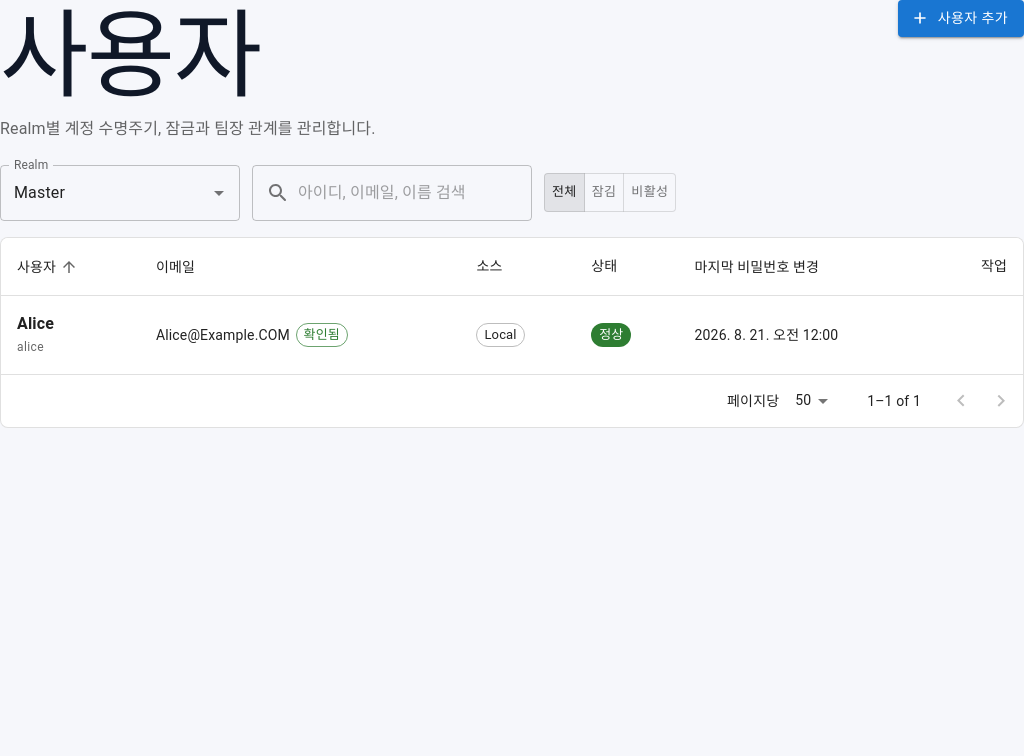
Scenario: a reset that could not end the sessions says so instead of claiming it did
This screenshot has width=1024, height=756.
Click the text "Alice" at (36, 324), box [17,314,54,333]
(page scrolled)
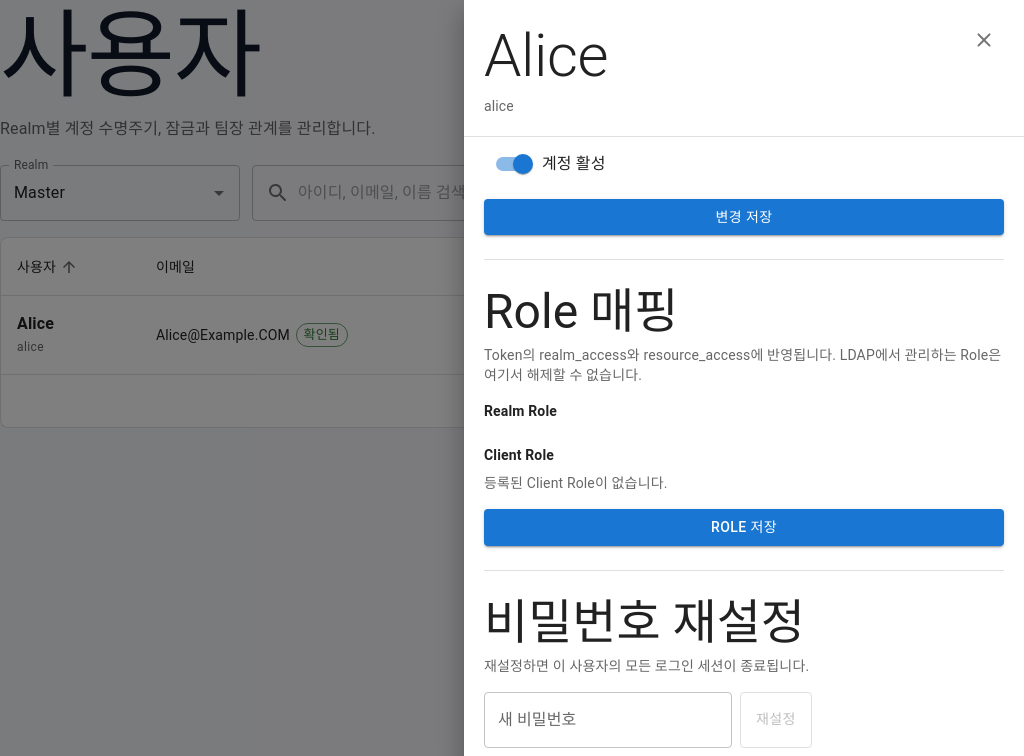
Type "a-new-password-1234" into the password field labelled "새 비밀번호" at (608, 720), box [484,692,732,748]
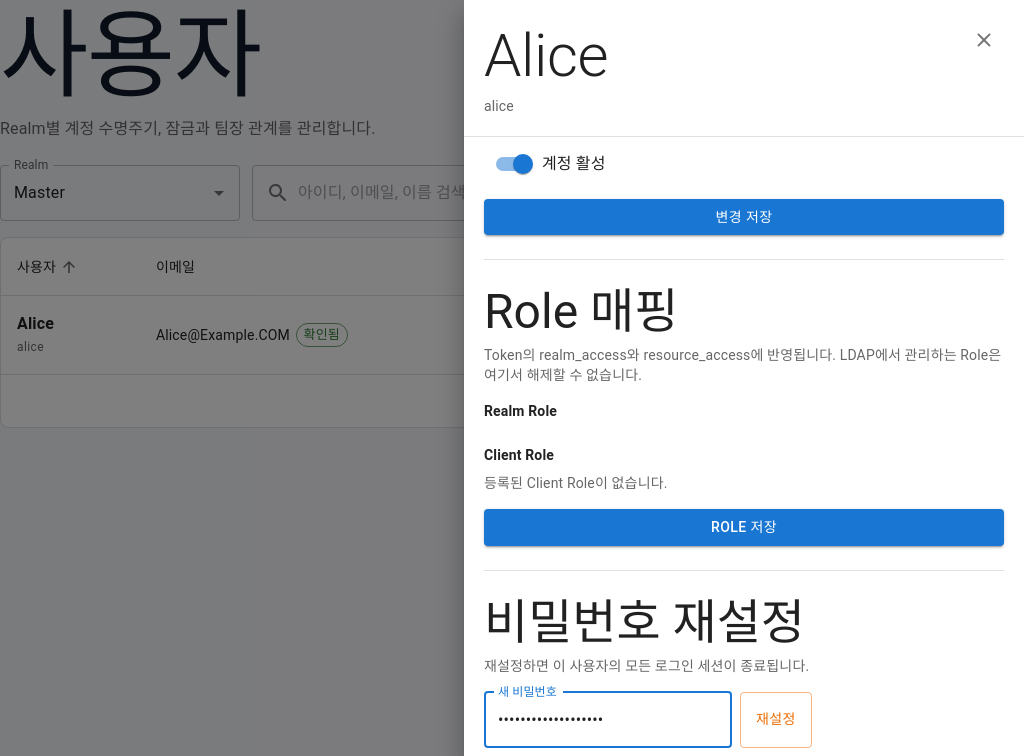
Click the button "재설정" at (776, 720), box [740,692,812,748]
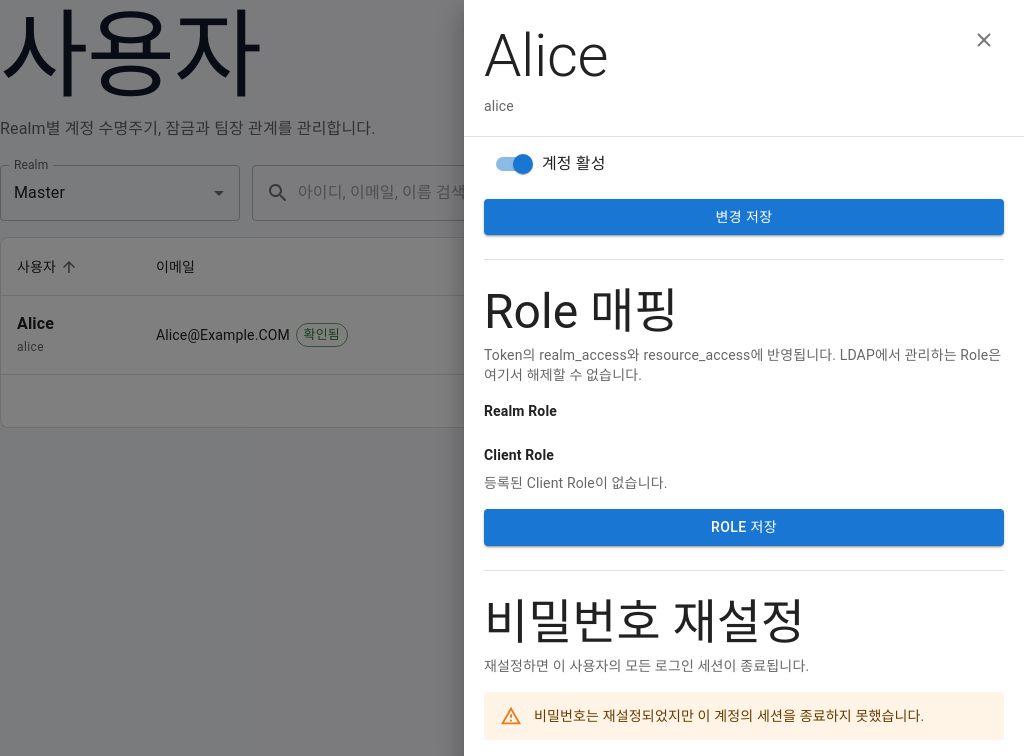
Check: the text "비밀번호는 재설정되었지만 이 계정의 세션을 종료하지 못했습니다." is shown, box [534,708,924,724]
